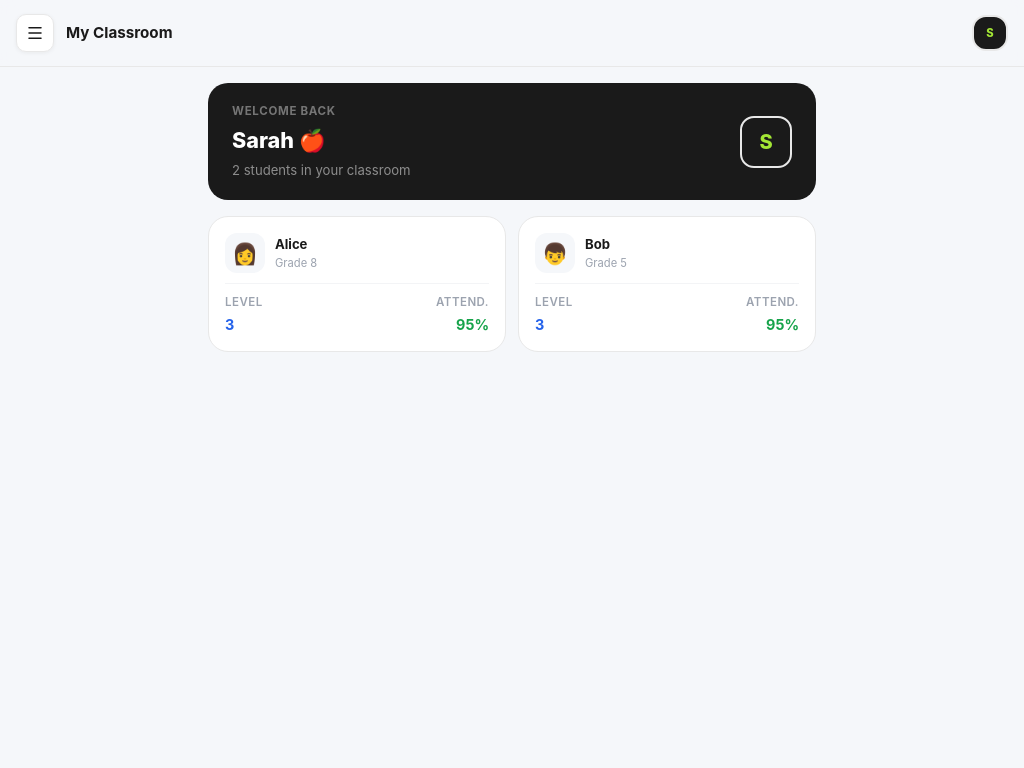
Test case: TeacherDashboard Component › opens profile photo modal when avatar is clicked
The image size is (1024, 768).
Click the button titled "Edit profile photo" in the row of "My Classroom" at (990, 33), box 972,15 -> 1008,51
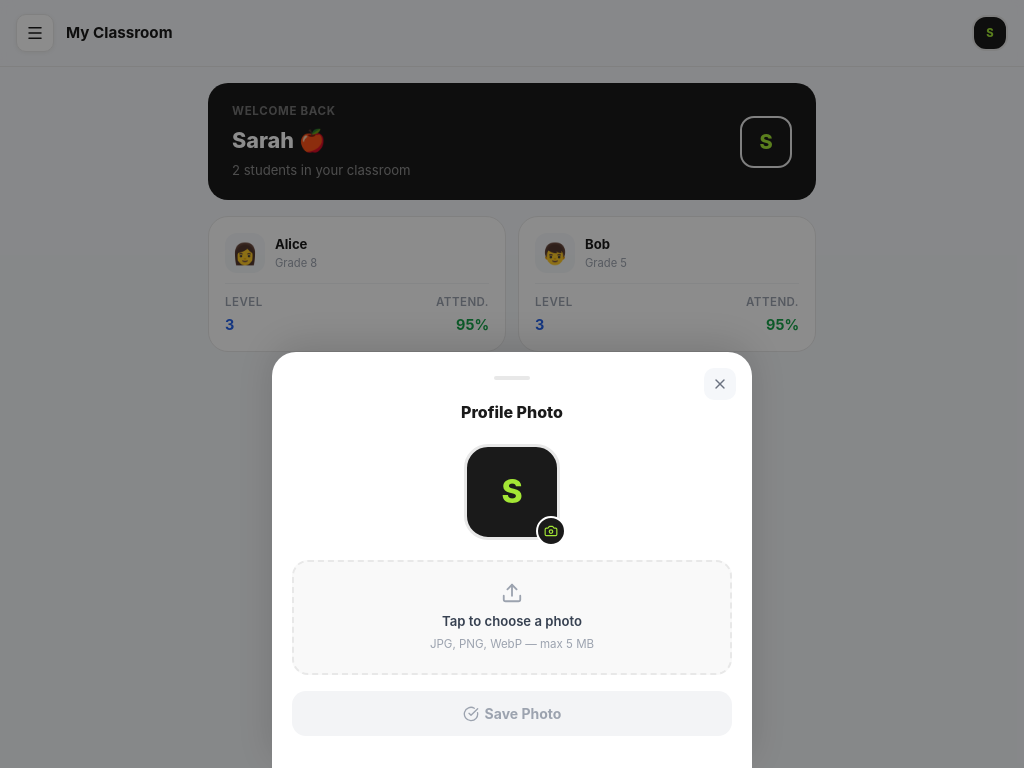
Expected: the heading "Profile Photo" is shown, 461,402 -> 563,422
